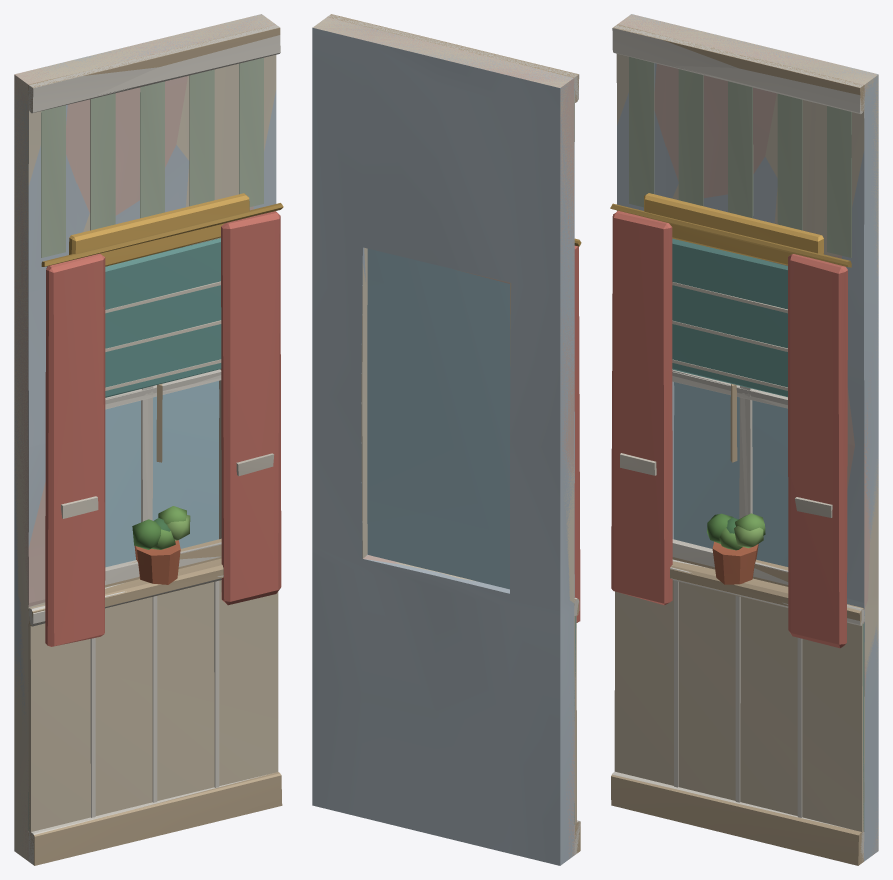
Rendered from iwall.window.glb.
3 views of the same model, side by side, from view 1: azimuth 30°, elevation 25°; view 2: azimuth 150°, elevation 25°; view 3: azimuth 330°, elevation 25° (orthographic).
Visible parts, largest first — view 1: iwall.window.v0.mesh, iwall.window.v1.mesh, iwall.window.v2.mesh; view 2: iwall.window.v2.mesh, iwall.window.v0.mesh, iwall.window.v1.mesh; view 3: iwall.window.v0.mesh, iwall.window.v1.mesh, iwall.window.v2.mesh.
Part boxes in pixels (x1,y1,x2,y2): iwall.window.v0.mesh: [14, 14, 283, 864]; iwall.window.v1.mesh: [14, 14, 282, 865]; iwall.window.v2.mesh: [14, 14, 276, 858]; iwall.window.v2.mesh: [312, 18, 579, 865]; iwall.window.v0.mesh: [313, 14, 581, 856]; iwall.window.v1.mesh: [314, 14, 580, 858]; iwall.window.v0.mesh: [610, 14, 878, 861]; iwall.window.v1.mesh: [611, 14, 878, 865]; iwall.window.v2.mesh: [612, 14, 878, 861].
Bounding box in the file's own units: 0.9999 × 3 × 0.226.
